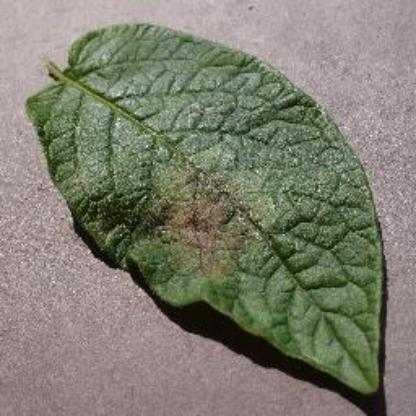Late-Blight: (22, 20, 394, 396)
